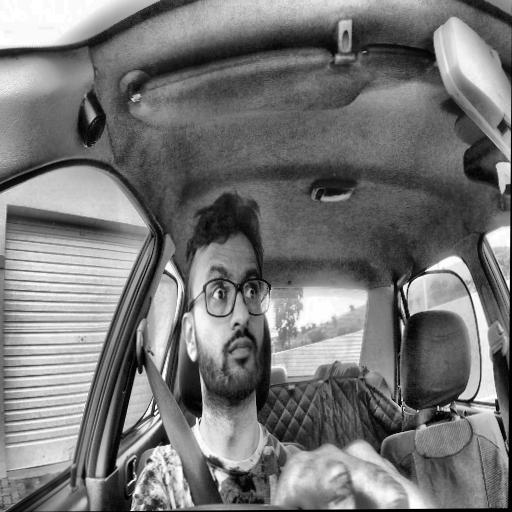awake: (180, 188, 271, 418)
